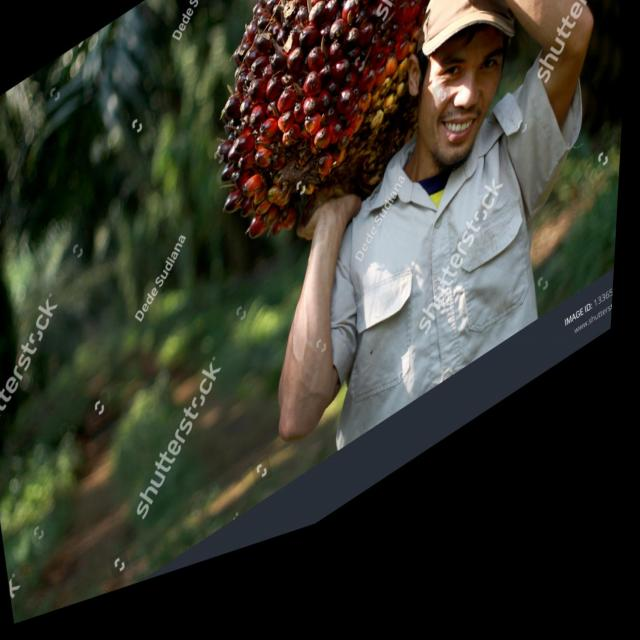Ripefruit: (182, 0, 482, 298)
